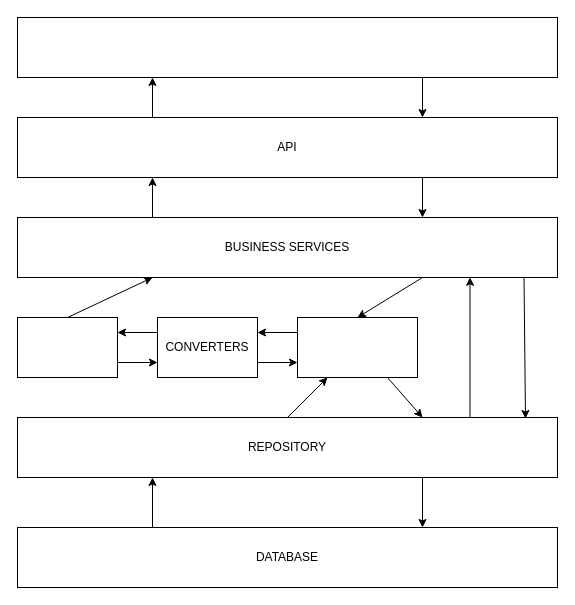
Some shapes in this 575 by 605 pixel diagram are drawn without their labels. Each missing label, with the box of its shape:
DTO: (16, 316, 118, 378)
ENTITIES: (296, 316, 418, 378)
SECURITY: (16, 16, 558, 78)
